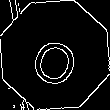O_N: (26, 24, 84, 86)
